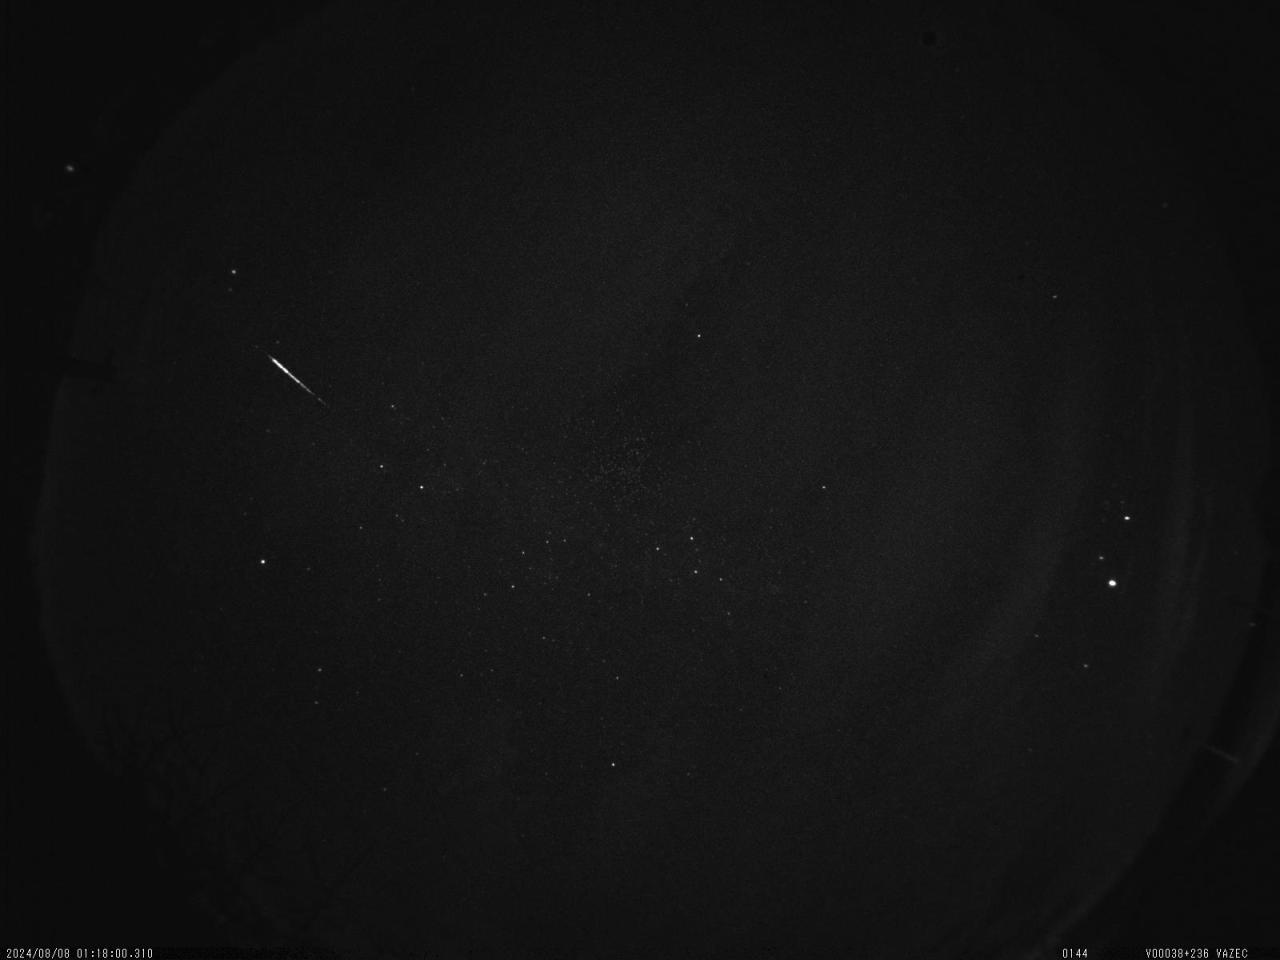Meteor: (266, 352, 332, 412)
